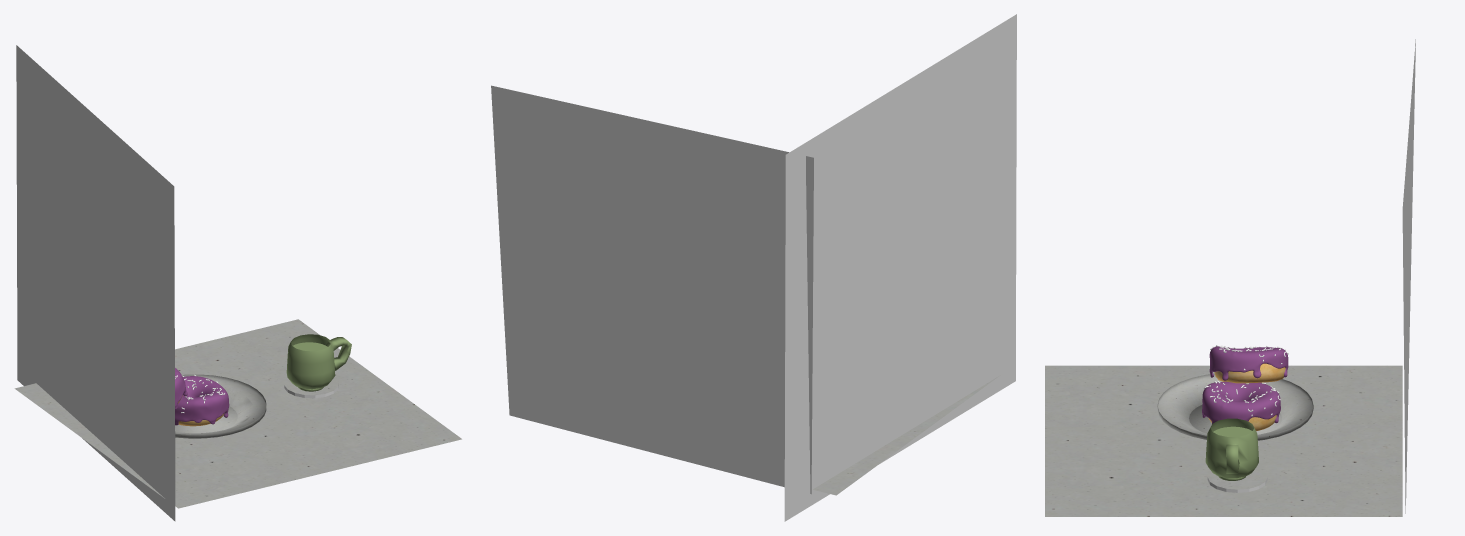
Rendered from donut-v2.glb.
The picture shows the model from 3 angles, left to right: view 1: azimuth 30°, elevation 25°; view 2: azimuth 150°, elevation 25°; view 3: azimuth 270°, elevation 25°; orthographic projection. The views are drawn at different scales.
Visible parts, largest first — view 1: Plane.001, Circle, mug, Icing; view 2: Plane.001, Circle; view 3: Circle, Icing, Plane.001, mug, donut, sprinkle.
Boxes of the visible parts, x1,y1,x2,y2 form: Plane.001: (16, 45, 338, 521); Circle: (14, 319, 461, 508); mug: (286, 334, 351, 391); Icing: (175, 368, 229, 425); Plane.001: (491, 14, 1016, 521); Circle: (813, 375, 1000, 495); Circle: (1045, 365, 1402, 516); Icing: (1202, 346, 1288, 423); Plane.001: (1207, 39, 1415, 513); mug: (1205, 418, 1258, 480); donut: (1208, 363, 1285, 431); sprinkle: (1204, 345, 1288, 416).
Size of the model in its own units: 1.98 by 2 by 2.01.
5 materials, 2 textured.
